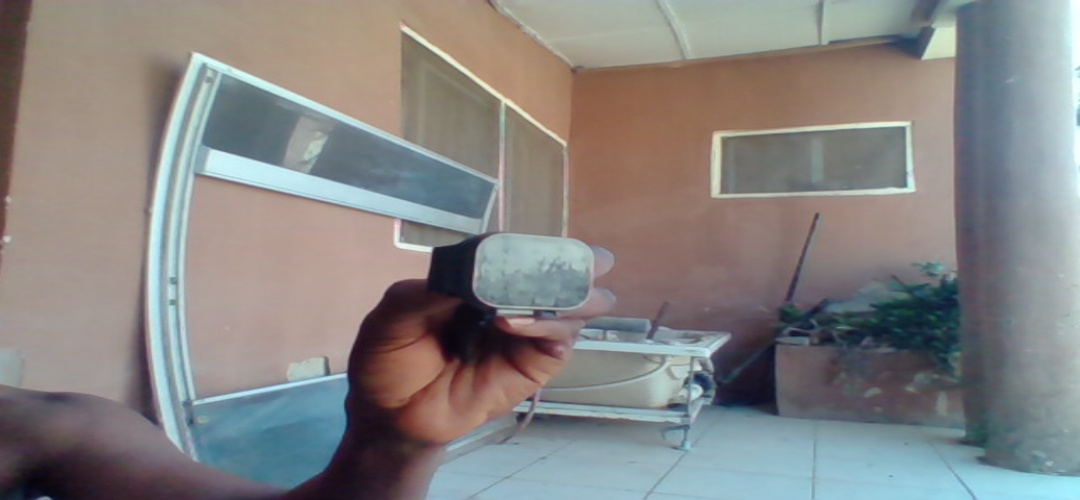smart_watch: (430, 232, 598, 322)
